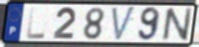2: (52, 6, 79, 41)
8: (82, 6, 106, 41)
9: (138, 6, 163, 43)
L: (26, 6, 47, 41)
N: (161, 6, 195, 43)
V: (110, 5, 137, 43)
